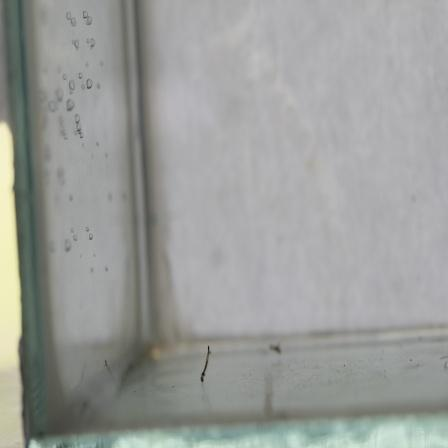Jentik-Nyamuk: (198, 343, 215, 388)
